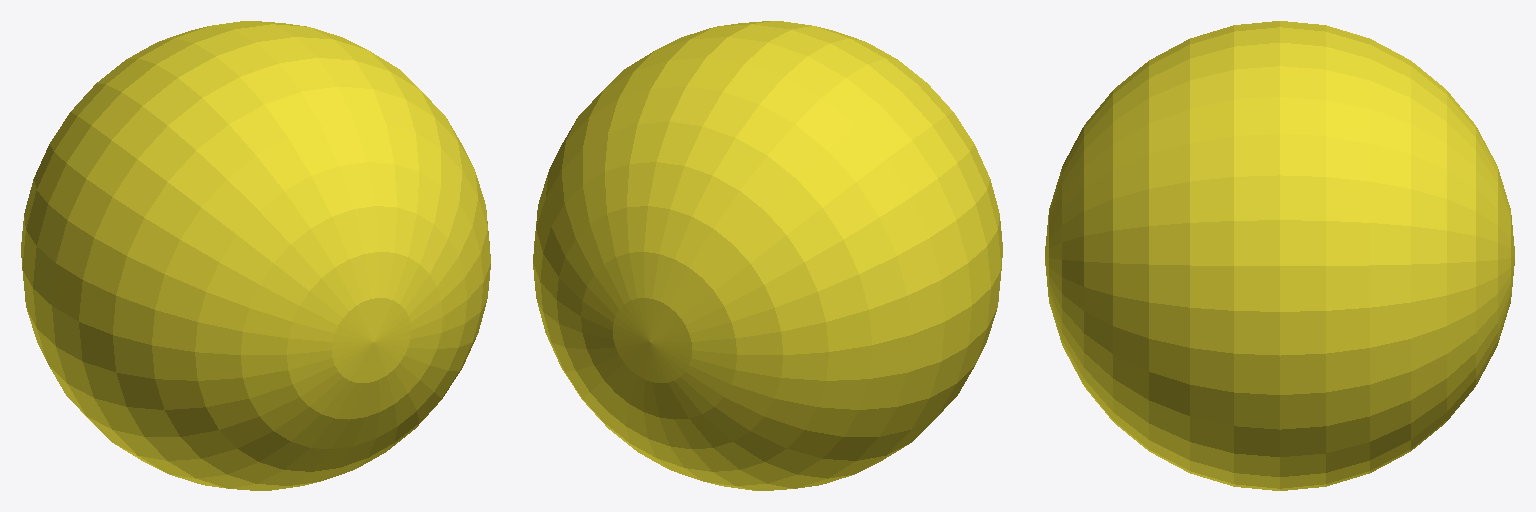
The robot description file, URDF, robot "ur5_robot":
<?xml version="1.0" ?>
<!-- <?xml version="1.0" encoding="utf-8"?> -->
<!-- =================================================================================== -->
<!-- |    This document was autogenerated by xacro from /root/catkin_ws/src/universal_robot/ur_description/urdf/ur.xacro | -->
<!-- |    EDITING THIS FILE BY HAND IS NOT RECOMMENDED                                 | -->
<!-- =================================================================================== -->
<robot name="ur5_robot">
  <!--
    Base UR robot series xacro macro.

    NOTE: this is NOT a URDF. It cannot directly be loaded by consumers
    expecting a flattened '.urdf' file. See the top-level '.xacro' for that
    (but note: that .xacro must still be processed by the xacro command).

    For use in '.launch' files: use one of the 'load_urX.launch' convenience
    launch files.

    This file models the base kinematic chain of a UR robot, which then gets
    parameterised by various configuration files to convert it into a UR3(e),
    UR5(e), UR10(e) or UR16e.

    NOTE: the default kinematic parameters (ie: link lengths, frame locations,
    offets, etc) do not correspond to any particular robot. They are defaults
    only. There WILL be non-zero offsets between the Forward Kinematics results
    in TF (ie: robot_state_publisher) and the values reported by the Teach
    Pendant.

    For accurate (and robot-specific) transforms, the 'kinematics_parameters_file'
    parameter MUST point to a .yaml file containing the appropriate values for
    the targetted robot.

    If using the UniversalRobots/Universal_Robots_ROS_Driver, follow the steps
    described in the readme of that repository to extract the kinematic
    calibration from the controller and generate the required .yaml file.

    Main author of the migration to yaml configs: [author].

    Contributors to previous versions (in no particular order):

     - [author]
     - [author]
     - [author]
     - [author]
     - [author]
     - [author]
     - [author]
     - [author]
     - [author]
     - [author]
     - [author]
     - [author]
     - [author]
     - [author]
     - [author]
     - [author]
     - [author]
  -->
  <!--
    NOTE: the macro defined in this file is NOT part of the public API of this
          package. Users CANNOT rely on this file being available, or stored in
          this location. Nor can they rely on the existence of the macro.
  -->
  <transmission name="shoulder_pan_trans">
    <type>transmission_interface/SimpleTransmission</type>
    <joint name="shoulder_pan_joint">
      <hardwareInterface>hardware_interface/PositionJointInterface</hardwareInterface>
    </joint>
    <actuator name="shoulder_pan_motor">
      <mechanicalReduction>1</mechanicalReduction>
    </actuator>
  </transmission>
  <transmission name="shoulder_lift_trans">
    <type>transmission_interface/SimpleTransmission</type>
    <joint name="shoulder_lift_joint">
      <hardwareInterface>hardware_interface/PositionJointInterface</hardwareInterface>
    </joint>
    <actuator name="shoulder_lift_motor">
      <mechanicalReduction>1</mechanicalReduction>
    </actuator>
  </transmission>
  <transmission name="elbow_trans">
    <type>transmission_interface/SimpleTransmission</type>
    <joint name="elbow_joint">
      <hardwareInterface>hardware_interface/PositionJointInterface</hardwareInterface>
    </joint>
    <actuator name="elbow_motor">
      <mechanicalReduction>1</mechanicalReduction>
    </actuator>
  </transmission>
  <transmission name="wrist_1_trans">
    <type>transmission_interface/SimpleTransmission</type>
    <joint name="wrist_1_joint">
      <hardwareInterface>hardware_interface/PositionJointInterface</hardwareInterface>
    </joint>
    <actuator name="wrist_1_motor">
      <mechanicalReduction>1</mechanicalReduction>
    </actuator>
  </transmission>
  <transmission name="wrist_2_trans">
    <type>transmission_interface/SimpleTransmission</type>
    <joint name="wrist_2_joint">
      <hardwareInterface>hardware_interface/PositionJointInterface</hardwareInterface>
    </joint>
    <actuator name="wrist_2_motor">
      <mechanicalReduction>1</mechanicalReduction>
    </actuator>
  </transmission>
  <transmission name="wrist_3_trans">
    <type>transmission_interface/SimpleTransmission</type>
    <joint name="wrist_3_joint">
      <hardwareInterface>hardware_interface/PositionJointInterface</hardwareInterface>
    </joint>
    <actuator name="wrist_3_motor">
      <mechanicalReduction>1</mechanicalReduction>
    </actuator>
  </transmission>
  <!-- links: main serial chain -->
  <link name="base_link"/>
  <link name="base_link_inertia">
    <visual>
      <origin rpy="0 0 3.14159265359" xyz="0 0 0"/>
      <geometry>
        <mesh filename="meshes/ur5/visual/base.dae"/>
      </geometry>
      <material name="LightGrey">
        <color rgba="0.7 0.7 0.7 1.0"/>
      </material>
    </visual>
    <collision>
      <origin rpy="0 0 3.14159265359" xyz="0 0 0"/>
      <geometry>
        <mesh filename="meshes/ur5/collision/base.stl"/>
      </geometry>
    </collision>
    <inertial>
      <mass value="4.0"/>
      <origin rpy="0 0 0" xyz="0 0 0"/>
      <inertia ixx="0.00443333156" ixy="0.0" ixz="0.0" iyy="0.00443333156" iyz="0.0" izz="0.0072"/>
    </inertial>
  </link>
  <link name="shoulder_link">
    <visual>
      <origin rpy="0 0 3.14159265359" xyz="0 0 0"/>
      <geometry>
        <mesh filename="meshes/ur5/visual/shoulder.dae"/>
      </geometry>
      <material name="LightGrey">
        <color rgba="0.7 0.7 0.7 1.0"/>
      </material>
    </visual>
    <collision>
      <origin rpy="0 0 3.14159265359" xyz="0 0 0"/>
      <geometry>
        <mesh filename="meshes/ur5/collision/shoulder.stl"/>
      </geometry>
    </collision>
    <inertial>
      <mass value="3.7"/>
      <origin rpy="0 0 0" xyz="0 0 0"/>
      <inertia ixx="0.0149723523444" ixy="0.0" ixz="0.0" iyy="0.0149723523444" iyz="0.0" izz="0.01040625"/>
    </inertial>
  </link>
  <link name="upper_arm_link">
    <visual>
      <origin rpy="1.57079632679 0 -1.57079632679" xyz="0 0 0.13585"/>
      <geometry>
        <mesh filename="meshes/ur5/visual/upperarm.dae"/>
      </geometry>
      <material name="LightGrey">
        <color rgba="0.7 0.7 0.7 1.0"/>
      </material>
    </visual>
    <collision>
      <origin rpy="1.57079632679 0 -1.57079632679" xyz="0 0 0.13585"/>
      <geometry>
        <mesh filename="meshes/ur5/collision/upperarm.stl"/>
      </geometry>
    </collision>
    <inertial>
      <mass value="8.393"/>
      <origin rpy="0 1.57079632679 0" xyz="-0.2125 0.0 0.136"/>
      <inertia ixx="0.133885781862" ixy="0.0" ixz="0.0" iyy="0.133885781862" iyz="0.0" izz="0.0151074"/>
    </inertial>
  </link>
  <link name="forearm_link">
    <visual>
      <origin rpy="1.57079632679 0 -1.57079632679" xyz="0 0 0.0165"/>
      <geometry>
        <mesh filename="meshes/ur5/visual/forearm.dae"/>
      </geometry>
      <material name="LightGrey">
        <color rgba="0.7 0.7 0.7 1.0"/>
      </material>
    </visual>
    <collision>
      <origin rpy="1.57079632679 0 -1.57079632679" xyz="0 0 0.0165"/>
      <geometry>
        <mesh filename="meshes/ur5/collision/forearm.stl"/>
      </geometry>
    </collision>
    <inertial>
      <mass value="2.275"/>
      <origin rpy="0 1.57079632679 0" xyz="-0.196125 0.0 0.0165"/>
      <inertia ixx="0.0312167910289" ixy="0.0" ixz="0.0" iyy="0.0312167910289" iyz="0.0" izz="0.004095"/>
    </inertial>
  </link>
  <link name="wrist_1_link">
    <visual>
      <!-- TODO: Move this to a parameter -->
      <origin rpy="1.57079632679 0 0" xyz="0 0 -0.093"/>
      <geometry>
        <mesh filename="meshes/ur5/visual/wrist1.dae"/>
      </geometry>
      <material name="LightGrey">
        <color rgba="0.7 0.7 0.7 1.0"/>
      </material>
    </visual>
    <collision>
      <origin rpy="1.57079632679 0 0" xyz="0 0 -0.093"/>
      <geometry>
        <mesh filename="meshes/ur5/collision/wrist1.stl"/>
      </geometry>
    </collision>
    <inertial>
      <mass value="1.219"/>
      <origin rpy="0 0 0" xyz="0 0 0"/>
      <inertia ixx="0.00201388877778" ixy="0.0" ixz="0.0" iyy="0.00201388877778" iyz="0.0" izz="0.0021942"/>
    </inertial>
  </link>
  <link name="wrist_2_link">
    <visual>
      <origin rpy="0 0 0" xyz="0 0 -0.095"/>
      <geometry>
        <mesh filename="meshes/ur5/visual/wrist2.dae"/>
      </geometry>
      <material name="LightGrey">
        <color rgba="0.7 0.7 0.7 1.0"/>
      </material>
    </visual>
    <collision>
      <origin rpy="0 0 0" xyz="0 0 -0.095"/>
      <geometry>
        <mesh filename="meshes/ur5/collision/wrist2.stl"/>
      </geometry>
    </collision>
    <inertial>
      <mass value="1.219"/>
      <origin rpy="0 0 0" xyz="0 0 0"/>
      <inertia ixx="0.00183103885092" ixy="0.0" ixz="0.0" iyy="0.00183103885092" iyz="0.0" izz="0.0021942"/>
    </inertial>
  </link>
  <link name="wrist_3_link">
    <visual>
      <origin rpy="1.57079632679 0 0" xyz="0 0 -0.0818"/>
      <geometry>
        <mesh filename="meshes/ur5/visual/wrist3.dae"/>
      </geometry>
      <material name="LightGrey">
        <color rgba="0.7 0.7 0.7 1.0"/>
      </material>
    </visual>
    <collision>
      <origin rpy="1.57079632679 0 0" xyz="0 0 -0.0818"/>
      <geometry>
        <mesh filename="meshes/ur5/collision/wrist3.stl"/>
      </geometry>
    </collision>
    <inertial>
      <mass value="0.1879"/>
      <origin rpy="0 0 0" xyz="0.0 0.0 -0.01525"/>
      <inertia ixx="8.06247260834e-05" ixy="0.0" ixz="0.0" iyy="8.06247260834e-05" iyz="0.0" izz="0.0001321171875"/>
    </inertial>
  </link>
  <!-- joints: main serial chain -->
  <joint name="base_link-base_link_inertia" type="fixed">
    <parent link="base_link"/>
    <child link="base_link_inertia"/>
    <!-- 'base_link' is REP-103 aligned (so X+ forward), while the internal
           frames of the robot/controller have X+ pointing backwards.
           Use the joint between 'base_link' and 'base_link_inertia' (a dummy
           link/frame) to introduce the necessary rotation over Z (of pi rad).
      -->
    <origin rpy="0 0 3.14159265359" xyz="0 0 0"/>
  </joint>
  <joint name="shoulder_pan_joint" type="revolute">
    <parent link="base_link_inertia"/>
    <child link="shoulder_link"/>
    <origin rpy="0 0 0" xyz="0 0 0.089159"/>
    <axis xyz="0 0 1"/>
    <limit effort="150.0" lower="-3.1415" upper="3.1415" velocity="3.1415"/>
    <dynamics damping="0" friction="0"/>
  </joint>
  <joint name="shoulder_lift_joint" type="revolute">
    <parent link="shoulder_link"/>
    <child link="upper_arm_link"/>
    <origin rpy="1.570796327 0 0" xyz="0 0 0"/>
    <axis xyz="0 0 1"/>
    <limit effort="150.0" lower="-3.1415" upper="3.1415" velocity="3.1415"/>
    <dynamics damping="0" friction="0"/>
  </joint>
  <joint name="elbow_joint" type="revolute">
    <parent link="upper_arm_link"/>
    <child link="forearm_link"/>
    <origin rpy="0 0 0" xyz="-0.425 0 0"/>
    <axis xyz="0 0 1"/>
    <limit effort="150.0" lower="-3.1415" upper="3.1415" velocity="3.1415"/>
    <dynamics damping="0" friction="0"/>
  </joint>
  <joint name="wrist_1_joint" type="revolute">
    <parent link="forearm_link"/>
    <child link="wrist_1_link"/>
    <origin rpy="0 0 0" xyz="-0.39225 0 0.10915"/>
    <axis xyz="0 0 1"/>
    <limit effort="28.0" lower="-3.1415" upper="3.1415" velocity="3.1415"/>
    <dynamics damping="0" friction="0"/>
  </joint>
  <joint name="wrist_2_joint" type="revolute">
    <parent link="wrist_1_link"/>
    <child link="wrist_2_link"/>
    <origin rpy="1.570796327 0 0" xyz="0 -0.09465 -1.9413039509e-11"/>
    <axis xyz="0 0 1"/>
    <limit effort="28.0" lower="-3.1415" upper="3.1415" velocity="3.1415"/>
    <dynamics damping="0" friction="0"/>
  </joint>
  <joint name="wrist_3_joint" type="revolute">
    <parent link="wrist_2_link"/>
    <child link="wrist_3_link"/>
    <origin rpy="1.57079632659 3.14159265359 3.14159265359" xyz="0 0.0823 -1.68800121668e-11"/>
    <axis xyz="0 0 1"/>
    <limit effort="28.0" lower="-3.1415" upper="3.1415" velocity="3.1415"/>
    <dynamics damping="0" friction="0"/>
  </joint>
  <!-- ROS-Industrial 'base' frame: base_link to UR 'Base' Coordinates transform -->
  <link name="base"/>
  <joint name="base_link-base_fixed_joint" type="fixed">
    <!-- Note the rotation over Z of pi radians: as base_link is REP-103
           aligned (ie: has X+ forward, Y+ left and Z+ up), this is needed
           to correctly align 'base' with the 'Base' coordinate system of
           the UR controller.
      -->
    <origin rpy="0 0 3.14159265359" xyz="0 0 0"/>
    <parent link="base_link"/>
    <child link="base"/>
  </joint>
  <!-- ROS-Industrial 'flange' frame: attachment point for EEF models -->
  <link name="flange"/>
  <joint name="wrist_3-flange" type="fixed">
    <parent link="wrist_3_link"/>
    <child link="flange"/>
    <origin rpy="0 -1.57079632679 -1.57079632679" xyz="0 0 0"/>
  </joint>

  <link name="robotiq_85_base_link">
      <visual>
        <geometry>
          <mesh filename="meshes/robotiq_85_gripper/visual/robotiq_85_base_link.dae"/>
        </geometry>
      </visual>
      <collision>
        <geometry>
          <mesh filename="meshes/robotiq_85_gripper/collision/robotiq_85_base_link.stl"/>
        </geometry>
      </collision>
      <inertial>
        <mass value="0.636951" />
        <origin xyz="0.0 0.0 0.0" />
        <inertia ixx = "0.000380" ixy = "0.000000" ixz = "0.000000"
             iyx = "0.000000" iyy = "0.001110" iyz = "0.000000"
             izx = "0.000000" izy = "0.000000" izz = "0.001171" />
      </inertial>
    </link>

    <!-- <joint name="robotiq_85_left_knuckle_joint" type="revolute"> -->
    <joint name="robotiq_85_left_knuckle_joint" type="fixed">
      <parent link="robotiq_85_base_link"/>
      <child link="robotiq_85_left_knuckle_link"/>
      <axis xyz="0 0 1"/>
      <origin rpy="3.14 0.0 0.0" xyz="0.05490451627 0.03060114443 0.0"/>
      <!-- <limit lower="0.0" upper="0.80285" velocity="3.14" effort="1000"/> -->
    </joint>

    <!-- <joint name="robotiq_85_right_knuckle_joint" type="revolute"> -->
    <joint name="robotiq_85_right_knuckle_joint" type="fixed">
      <parent link="robotiq_85_base_link"/>
      <child link="robotiq_85_right_knuckle_link"/>
      <axis xyz="0 0 1"/>
      <origin rpy="0.0 0.0 0.0" xyz="0.05490451627 -0.03060114443 0.0"/>
      <!-- <limit lower="-3.14" upper="3.14" velocity="3.14" effort="1000"/>
      <mimic joint="robotiq_85_left_knuckle_joint"/> -->
    </joint>

    <link name="robotiq_85_left_knuckle_link">
      <visual>
        <geometry>
          <mesh filename="meshes/robotiq_85_gripper/visual/robotiq_85_knuckle_link.dae"/>
        </geometry>
      </visual>
      <collision>
        <geometry>
          <mesh filename="meshes/robotiq_85_gripper/collision/robotiq_85_knuckle_link.stl"/>
        </geometry>
      </collision>
      <inertial>
        <mass value="0.018491" />
        <origin xyz="0.0 0.0 0.0" />
        <inertia ixx = "0.000009" ixy = "-0.000001" ixz = "0.000000"
             iyx = "-0.000001" iyy = "0.000001" iyz = "0.000000"
             izx = "0.000000" izy = "0.000000" izz = "0.000010" />
      </inertial>
    </link>

    <link name="robotiq_85_right_knuckle_link">
      <visual>
        <geometry>
          <mesh filename="meshes/robotiq_85_gripper/visual/robotiq_85_knuckle_link.dae"/>
        </geometry>
      </visual>
      <collision>
        <geometry>
          <mesh filename="meshes/robotiq_85_gripper/collision/robotiq_85_knuckle_link.stl"/>
        </geometry>
      </collision>
      <inertial>
        <mass value="0.018491" />
        <origin xyz="0.0 0.0 0.0" />
        <inertia ixx = "0.000009" ixy = "-0.000001" ixz = "0.000000"
             iyx = "-0.000001" iyy = "0.000001" iyz = "0.000000"
             izx = "0.000000" izy = "0.000000" izz = "0.000010" />
      </inertial>
    </link>

    <joint name="robotiq_85_left_finger_joint" type="fixed">
      <parent link="robotiq_85_left_knuckle_link"/>
      <child link="robotiq_85_left_finger_link"/>
      <origin xyz="-0.00408552455 -0.03148604435 0.0" rpy="0 0 0" />
    </joint>

    <joint name="robotiq_85_right_finger_joint" type="fixed">
      <parent link="robotiq_85_right_knuckle_link"/>
      <child link="robotiq_85_right_finger_link"/>
      <origin xyz="-0.00408552455 -0.03148604435 0.0" rpy="0 0 0" />
    </joint>

    <link name="robotiq_85_left_finger_link">
      <visual>
        <geometry>
          <mesh filename="meshes/robotiq_85_gripper/visual/robotiq_85_finger_link.dae"/>
        </geometry>
      </visual>
      <collision>
        <geometry>
          <mesh filename="meshes/robotiq_85_gripper/collision/robotiq_85_finger_link.stl"/>
        </geometry>
      </collision>
      <inertial>
        <mass value="0.027309" />
        <origin xyz="0.0 0.0 0.0" />
        <inertia ixx = "0.000003" ixy = "-0.000002" ixz = "0.000000"
             iyx = "-0.000002" iyy = "0.000021" iyz = "0.000000"
             izx = "0.000000" izy = "0.000000" izz = "0.000020" />
      </inertial>
    </link>

    <link name="robotiq_85_right_finger_link">
      <visual>
        <geometry>
          <mesh filename="meshes/robotiq_85_gripper/visual/robotiq_85_finger_link.dae"/>
        </geometry>
      </visual>
      <collision>
        <geometry>
          <mesh filename="meshes/robotiq_85_gripper/collision/robotiq_85_finger_link.stl"/>
        </geometry>
      </collision>
      <inertial>
        <mass value="0.027309" />
        <origin xyz="0.0 0.0 0.0" />
        <inertia ixx = "0.000003" ixy = "-0.000002" ixz = "0.000000"
             iyx = "-0.000002" iyy = "0.000021" iyz = "0.000000"
             izx = "0.000000" izy = "0.000000" izz = "0.000020" />
      </inertial>
    </link>

    <!-- <joint name="robotiq_85_left_inner_knuckle_joint" type="revolute"> -->
    <joint name="robotiq_85_left_inner_knuckle_joint" type="fixed">
      <parent link="robotiq_85_base_link"/>
      <child link="robotiq_85_left_inner_knuckle_link"/>
      <axis xyz="0 0 1"/>
      <origin xyz="0.06142 0.0127 0" rpy="3.14 0.0 0.0" />
      <!-- <limit lower="-3.14" upper="3.14" velocity="3.14" effort="0.1"/>
      <mimic joint="robotiq_85_left_knuckle_joint" offset="0"/> -->
    </joint>

    <!-- <joint name="robotiq_85_right_inner_knuckle_joint" type="revolute"> -->
    <joint name="robotiq_85_right_inner_knuckle_joint" type="fixed">
      <parent link="robotiq_85_base_link"/>
      <child link="robotiq_85_right_inner_knuckle_link"/>
      <axis xyz="0 0 1"/>
      <origin xyz="0.06142 -0.0127 0" rpy="0 0 0"/>
      <!-- <limit lower="-3.14" upper="3.14" velocity="3.14" effort="0.1"/>
      <mimic joint="robotiq_85_left_knuckle_joint" offset="0"/> -->
    </joint>

    <link name="robotiq_85_left_inner_knuckle_link">
      <visual>
        <geometry>
          <mesh filename="meshes/robotiq_85_gripper/visual/robotiq_85_inner_knuckle_link.dae"/>
        </geometry>
      </visual>
      <collision>
        <geometry>
          <mesh filename="meshes/robotiq_85_gripper/collision/robotiq_85_inner_knuckle_link.stl"/>
        </geometry>
      </collision>
      <inertial>
        <mass value="0.029951" />
        <origin xyz="0.0 0.0 0.0" />
        <inertia ixx = "0.000039" ixy = "0.000000" ixz = "0.000000"
             iyx = "0.000000" iyy = "0.000005" iyz = "0.000000"
             izx = "0.000000" izy = "0.000000" izz = "0.000035" />
      </inertial>
    </link>
    <link name="robotiq_85_right_inner_knuckle_link">
      <visual>
        <geometry>
          <mesh filename="meshes/robotiq_85_gripper/visual/robotiq_85_inner_knuckle_link.dae"/>
        </geometry>
      </visual>
      <collision>
        <geometry>
          <mesh filename="meshes/robotiq_85_gripper/collision/robotiq_85_inner_knuckle_link.stl"/>
        </geometry>
      </collision>
      <inertial>
        <mass value="0.029951" />
        <origin xyz="0.0 0.0 0.0" />
        <inertia ixx = "0.000039" ixy = "0.000000" ixz = "0.000000"
             iyx = "0.000000" iyy = "0.000005" iyz = "0.000000"
             izx = "0.000000" izy = "0.000000" izz = "0.000035" />
      </inertial>
    </link>

    <!-- <joint name="robotiq_85_left_finger_tip_joint" type="revolute"> -->
    <joint name="robotiq_85_left_finger_tip_joint" type="fixed">
      <parent link="robotiq_85_left_inner_knuckle_link"/>
      <child link="robotiq_85_left_finger_tip_link"/>
      <axis xyz="0 0 1"/>
      <origin xyz="0.04303959807 -0.03759940821 0.0" rpy="0.0 0.0 0.0"/>
      <!-- <limit lower="-3.14" upper="3.14" velocity="3.14" effort="0.1"/>
      <mimic joint="robotiq_85_left_knuckle_joint" multiplier="-1"/> -->
    </joint>

    <!-- <joint name="robotiq_85_right_finger_tip_joint" type="revolute"> -->
    <joint name="robotiq_85_right_finger_tip_joint" type="fixed">
      <parent link="robotiq_85_right_inner_knuckle_link"/>
      <child link="robotiq_85_right_finger_tip_link"/>
      <axis xyz="0 0 1"/>
      <origin rpy="0.0 0.0 0.0" xyz="0.04303959807 -0.03759940821  0.0"/>
      <!-- <limit lower="-3.14" upper="3.14" velocity="3.14" effort="0.1"/>
      <mimic joint="robotiq_85_left_knuckle_joint" multiplier="-1"/> -->
    </joint>


    <link name="robotiq_85_left_finger_tip_link">
      <visual>
        <geometry>
          <mesh filename="meshes/robotiq_85_gripper/visual/robotiq_85_finger_tip_link.dae"/>
        </geometry>
      </visual>
      <collision>
        <geometry>
          <mesh filename="meshes/robotiq_85_gripper/collision/robotiq_85_finger_tip_link.stl"/>
        </geometry>
      </collision>
      <inertial>
        <mass value="0.019555" />
        <origin xyz="0.0 0.0 0.0" />
        <inertia ixx = "0.000002" ixy = "0.000000" ixz = "0.000000"
             iyx = "0.000000" iyy = "0.000005" iyz = "0.000000"
             izx = "0.000000" izy = "0.000000" izz = "0.000006" />
      </inertial>
    </link>

    <link name="robotiq_85_right_finger_tip_link">
      <visual>
        <geometry>
          <mesh filename="meshes/robotiq_85_gripper/visual/robotiq_85_finger_tip_link.dae"/>
        </geometry>
      </visual>
      <collision>
        <geometry>
          <mesh filename="meshes/robotiq_85_gripper/collision/robotiq_85_finger_tip_link.stl"/>
        </geometry>
      </collision>
      <inertial>
        <mass value="0.019555" />
        <origin xyz="0.0 0.0 0.0" />
        <inertia ixx = "0.000002" ixy = "0.000000" ixz = "0.000000"
             iyx = "0.000000" iyy = "0.000005" iyz = "0.000000"
             izx = "0.000000" izy = "0.000000" izz = "0.000006" />
      </inertial>
    </link>

    <link name="gripper_base_target">
      <visual>
        <geometry>
          <sphere radius="0.01"/>
        </geometry>
      </visual>
    </link>
    <joint name="gripper_parent_to_target" type="fixed">
      <parent link="flange"/>
      <child link="gripper_base_target"/>
      <origin rpy="1.57079632679 1.57079632679 1.57079632679" xyz="0.05 0 0"/>
    </joint>

    <joint name="arm_gripper_joint" type="fixed">
      <parent link="flange"/>
      <child link="robotiq_85_base_link"/>
      <origin rpy="0.0 0.0 0.0" xyz="0.0 0.0 0.0"/>
    </joint>

</robot>

--- What the picture shows (computed from the rendered views, not written in the file) ---
The picture shows the robot from 3 angles, left to right: view 1: azimuth 30°, elevation 25°; view 2: azimuth 150°, elevation 25°; view 3: azimuth 270°, elevation 25°; orthographic projection.
Robot: ur5_robot — 20 links, 19 joints (6 revolute, 13 fixed); root link base_link; default pose: all joints at 0.
Visible links, largest first — view 1: gripper_base_target; view 2: gripper_base_target; view 3: gripper_base_target.
Boxes of the visible links, x1,y1,x2,y2 form: gripper_base_target: [21, 21, 490, 490]; gripper_base_target: [533, 21, 1002, 490]; gripper_base_target: [1045, 21, 1514, 490].
Bounding box of the posed robot: 0.02 × 0.02 × 0.02 m (x, y, z).
0 mesh visuals loaded from 12 distinct referenced files (none loaded); not drawn: 16 (reference not matched to a file when rendering).